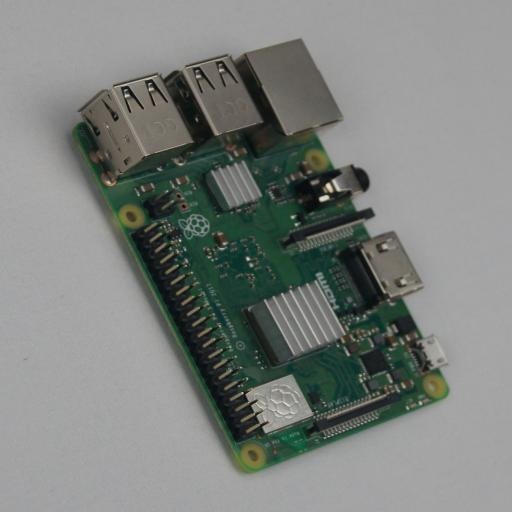Raspberry Pi 3 B-: (65, 39, 449, 473)
